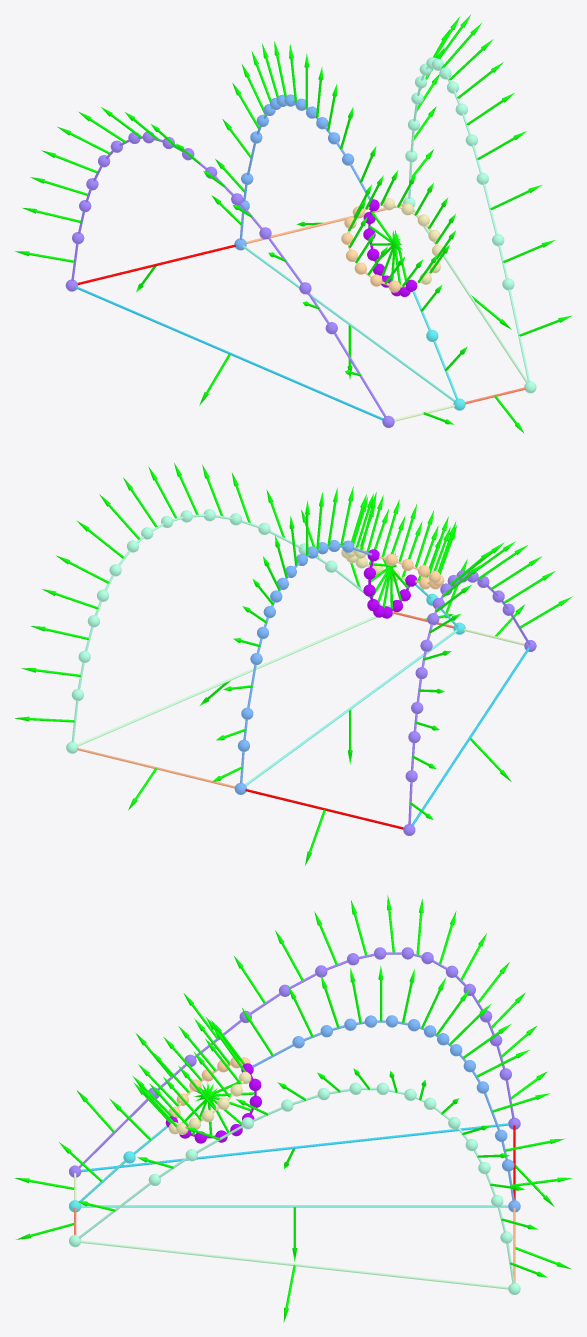
File: onshape_simple_mouse.gltf
The picture shows the model from 3 angles, top to bottom: view 1: azimuth 30°, elevation 25°; view 2: azimuth 150°, elevation 25°; view 3: azimuth 270°, elevation 25°; orthographic projection.
Size of the model in its own units: 0.7818 by 0.5275 by 0.8977.
